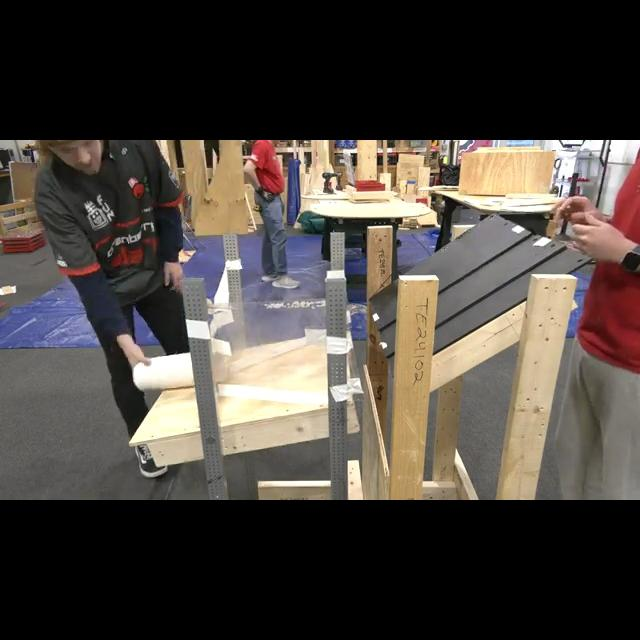CORAL: (132, 337, 232, 391)
